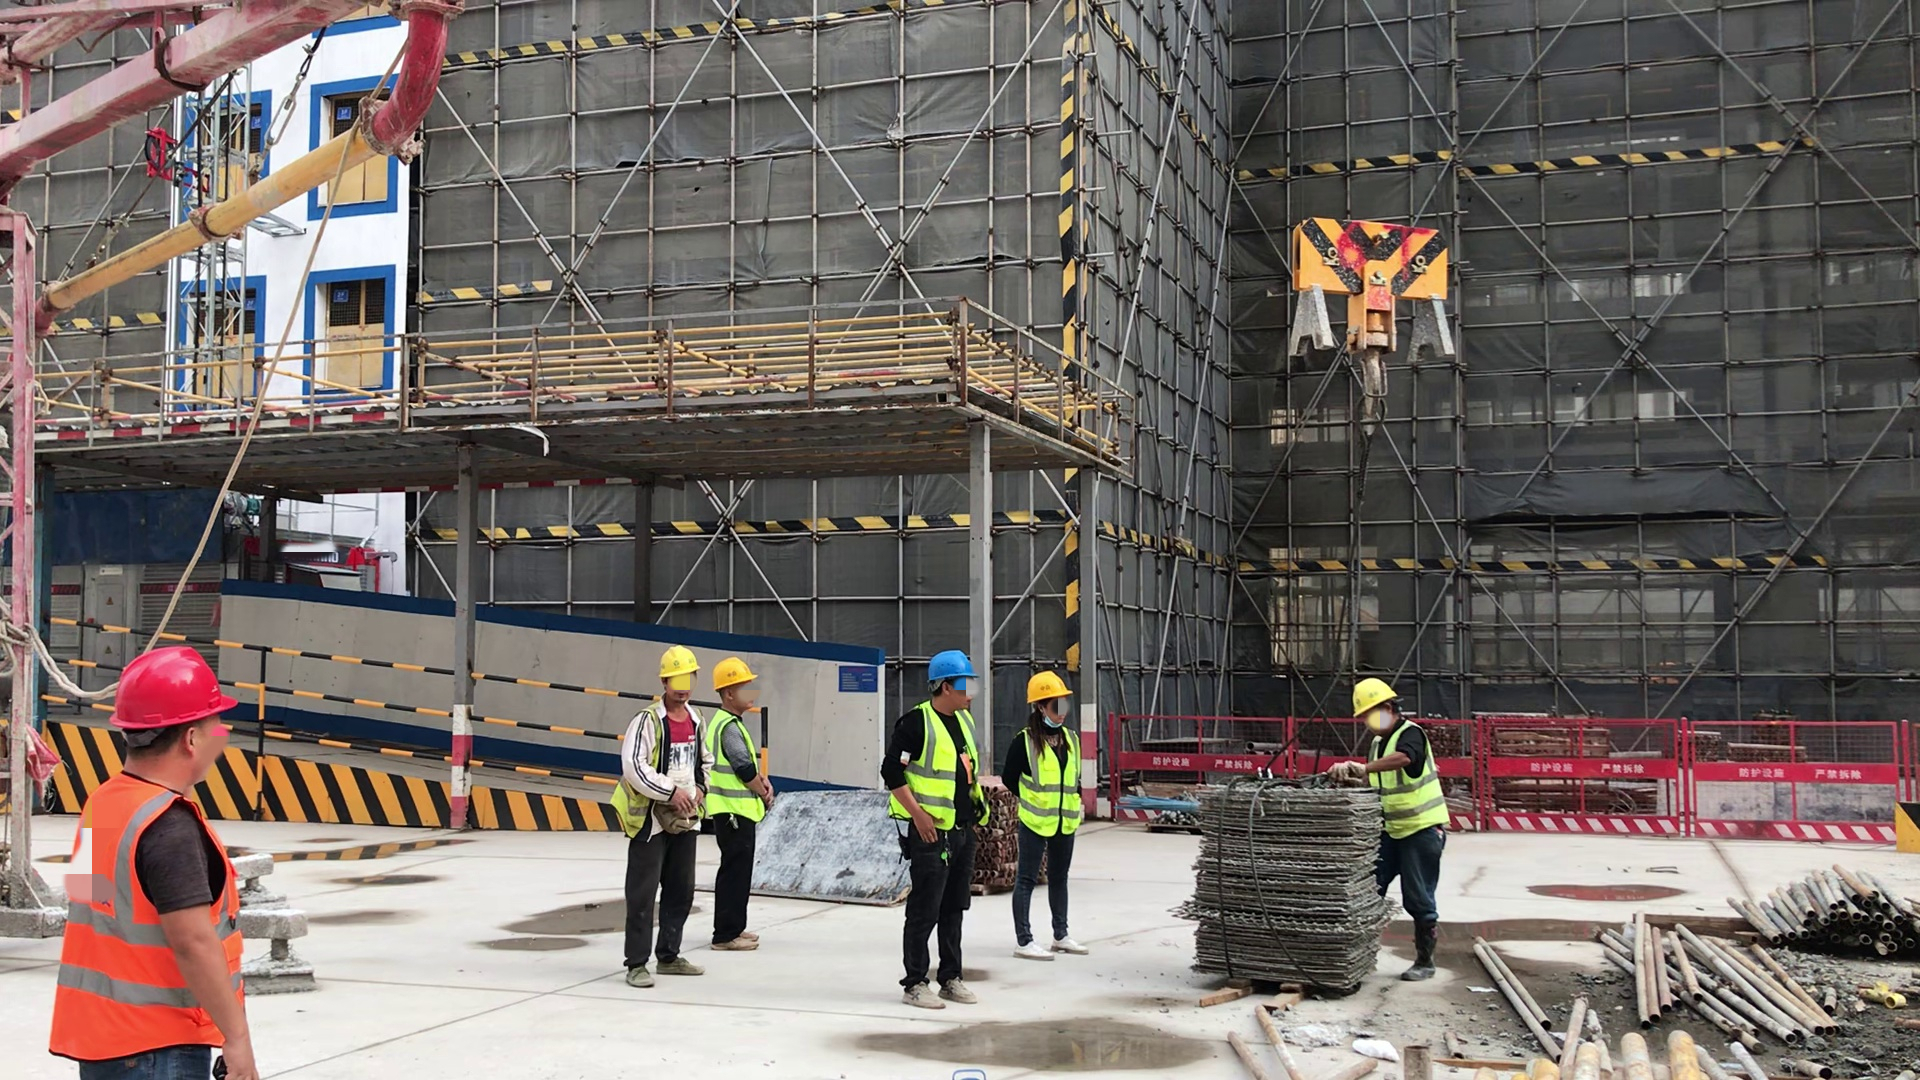board: (708, 783, 959, 908)
fence: (1101, 699, 1897, 849)
helmet: (108, 641, 245, 734), (1345, 675, 1400, 719), (1022, 664, 1073, 707), (922, 649, 980, 682), (705, 659, 760, 689), (656, 649, 701, 679)
hook: (1271, 207, 1462, 430)
person: (50, 639, 269, 1080), (880, 644, 989, 1012), (1326, 672, 1452, 984), (606, 640, 710, 988), (999, 665, 1090, 964), (693, 652, 768, 957)
vest: (50, 772, 260, 1051), (1350, 724, 1454, 846), (895, 701, 982, 833), (1003, 718, 1084, 845), (706, 706, 772, 829)
